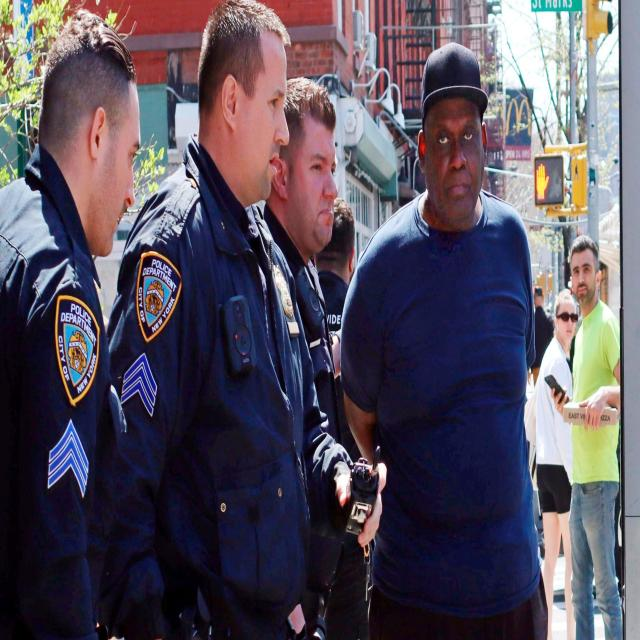police: (132, 0, 317, 640), (0, 0, 139, 640), (253, 65, 380, 640)
